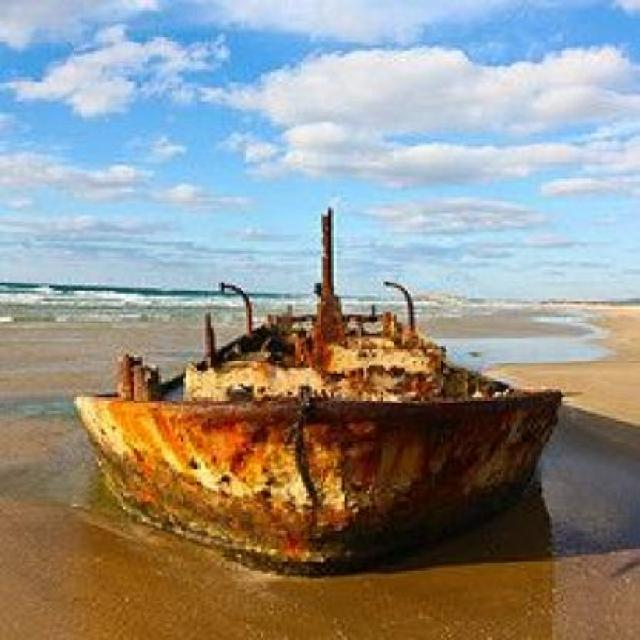corrosion: (81, 208, 565, 570)
